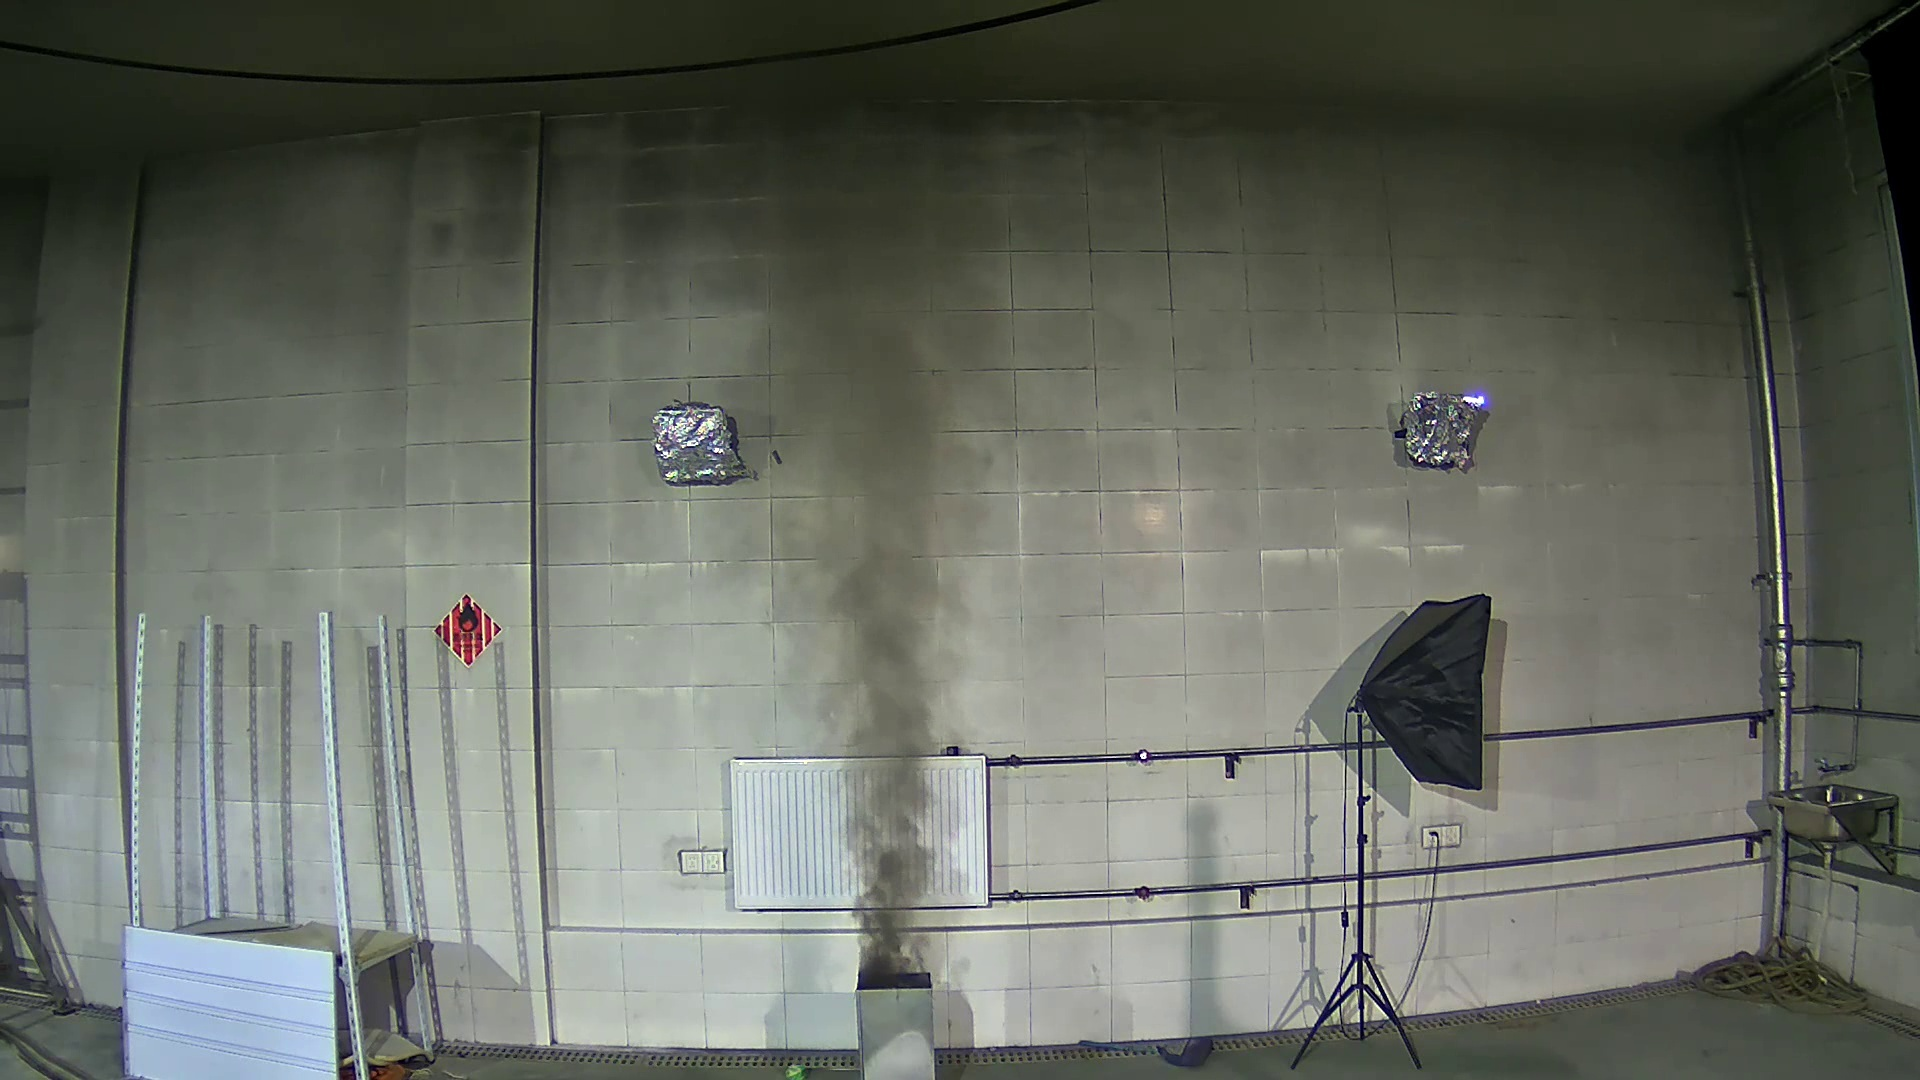smoke: (725, 332, 975, 972)
